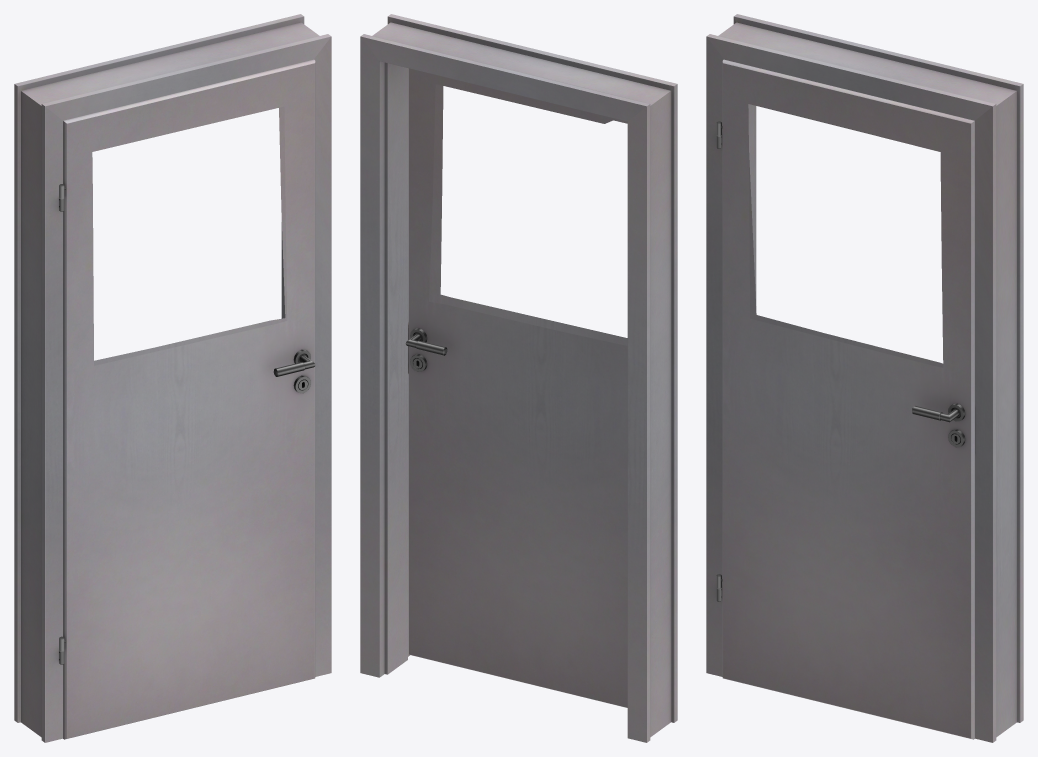
The model's file is door_with_glass.glb.
The picture shows the model from 3 angles, left to right: view 1: azimuth 30°, elevation 25°; view 2: azimuth 150°, elevation 25°; view 3: azimuth 330°, elevation 25°; orthographic projection.
Parts seen in each view (by area): view 1: Plane.001, Plane.002; view 2: Plane.001, Plane.002; view 3: Plane.001, Plane.002.
Part boxes in pixels (box(x1,y1,x2,y2)): Plane.001: box(59, 59, 315, 739); Plane.002: box(14, 14, 331, 742); Plane.001: box(408, 68, 627, 707); Plane.002: box(360, 14, 677, 742); Plane.001: box(716, 59, 974, 739); Plane.002: box(706, 14, 1023, 742).
Bounding box in the file's own units: 97 × 206 × 26.06.
2 materials, 2 textured.
